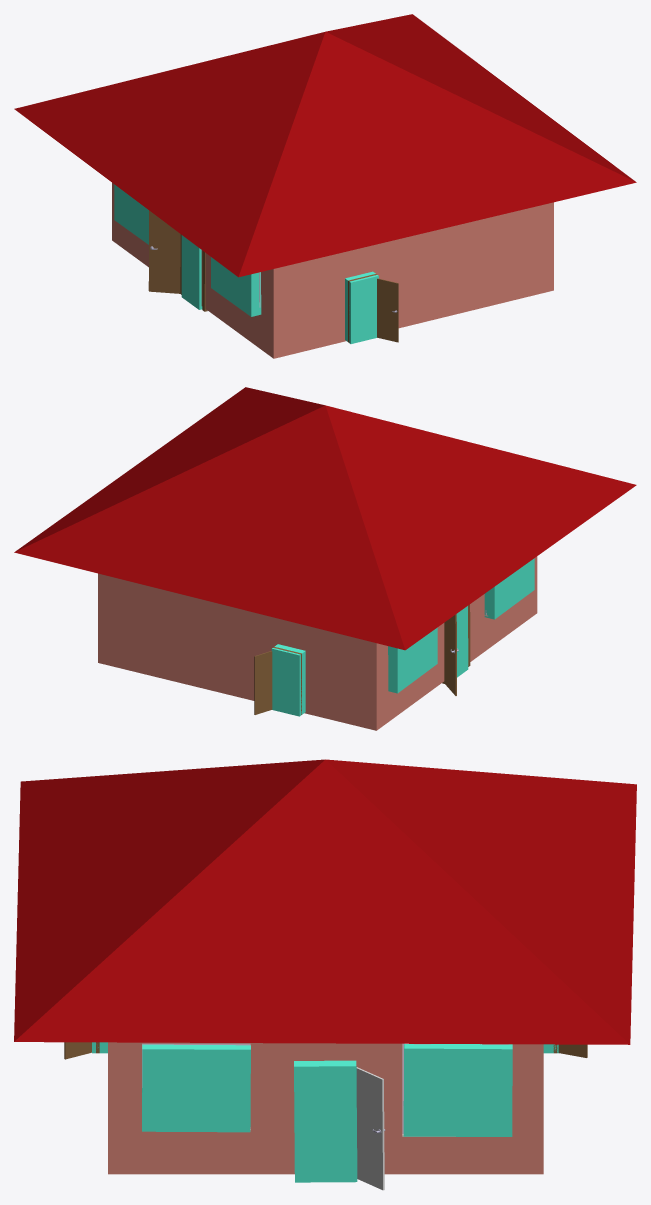
The model's file is casa.fbx.
3 views of the same model, one above another, from view 1: azimuth 30°, elevation 25°; view 2: azimuth 150°, elevation 25°; view 3: azimuth 270°, elevation 25° (orthographic). The views are drawn at different scales.
Visible parts, largest first — view 1: Estructura Principal, Room, Door.001, CTRL_Hole.004, CTRL_Hole.011, Door.002, CTRL_Hole.001, CTRL_Hole.012; view 2: Estructura Principal, Room, CTRL_Hole.010, CTRL_Hole.012, CTRL_Hole.011, Door.003, Door.001, CTRL_Hole.001; view 3: Estructura Principal, Room, CTRL_Hole.003, CTRL_Hole.002, CTRL_Hole, Door.
Boxes of the visible parts, box(x1,y1,x2,y2) form: Estructura Principal: box(14, 14, 636, 277); Room: box(112, 183, 553, 358); Door.001: box(148, 210, 180, 293); CTRL_Hole.004: box(345, 271, 378, 343); CTRL_Hole.011: box(211, 257, 261, 316); Door.002: box(377, 278, 398, 342); CTRL_Hole.001: box(181, 235, 202, 309); CTRL_Hole.012: box(114, 184, 148, 244); Estructura Principal: box(14, 387, 636, 650); Room: box(98, 556, 537, 730); CTRL_Hole.010: box(271, 644, 305, 716); CTRL_Hole.012: box(388, 627, 437, 693); CTRL_Hole.011: box(484, 558, 534, 619); Door.003: box(254, 651, 272, 714); Door.001: box(444, 614, 456, 695); CTRL_Hole.001: box(456, 606, 468, 677); Estructura Principal: box(14, 759, 636, 1044); Room: box(108, 1042, 543, 1174); CTRL_Hole.003: box(403, 1044, 512, 1136); CTRL_Hole.002: box(142, 1044, 250, 1132); CTRL_Hole: box(294, 1060, 357, 1182); Door: box(356, 1067, 384, 1190).
Bounding box in the file's own units: 1429 × 816 × 1429.
